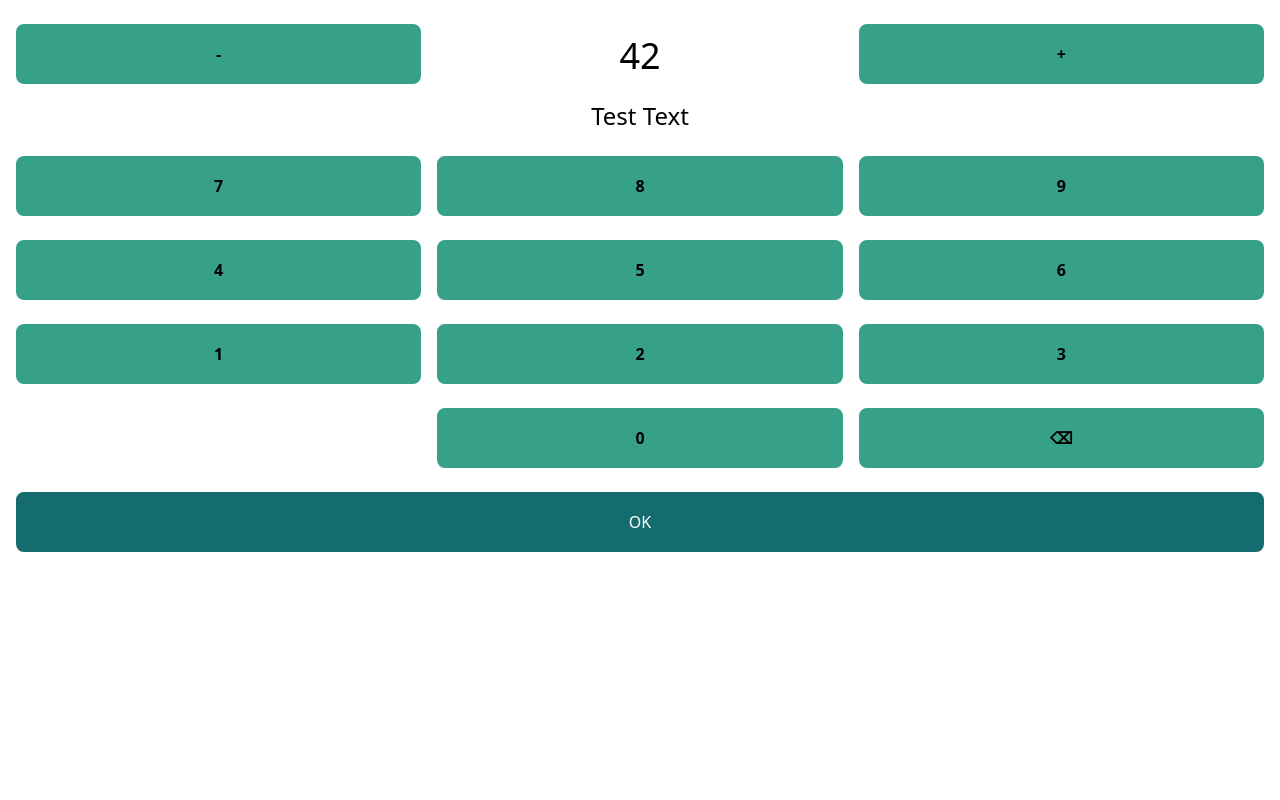
Test: NumPad › decreases value when - button is clicked
The image size is (1280, 800).
Click the button "-": [219, 54] box [16,24,421,84]
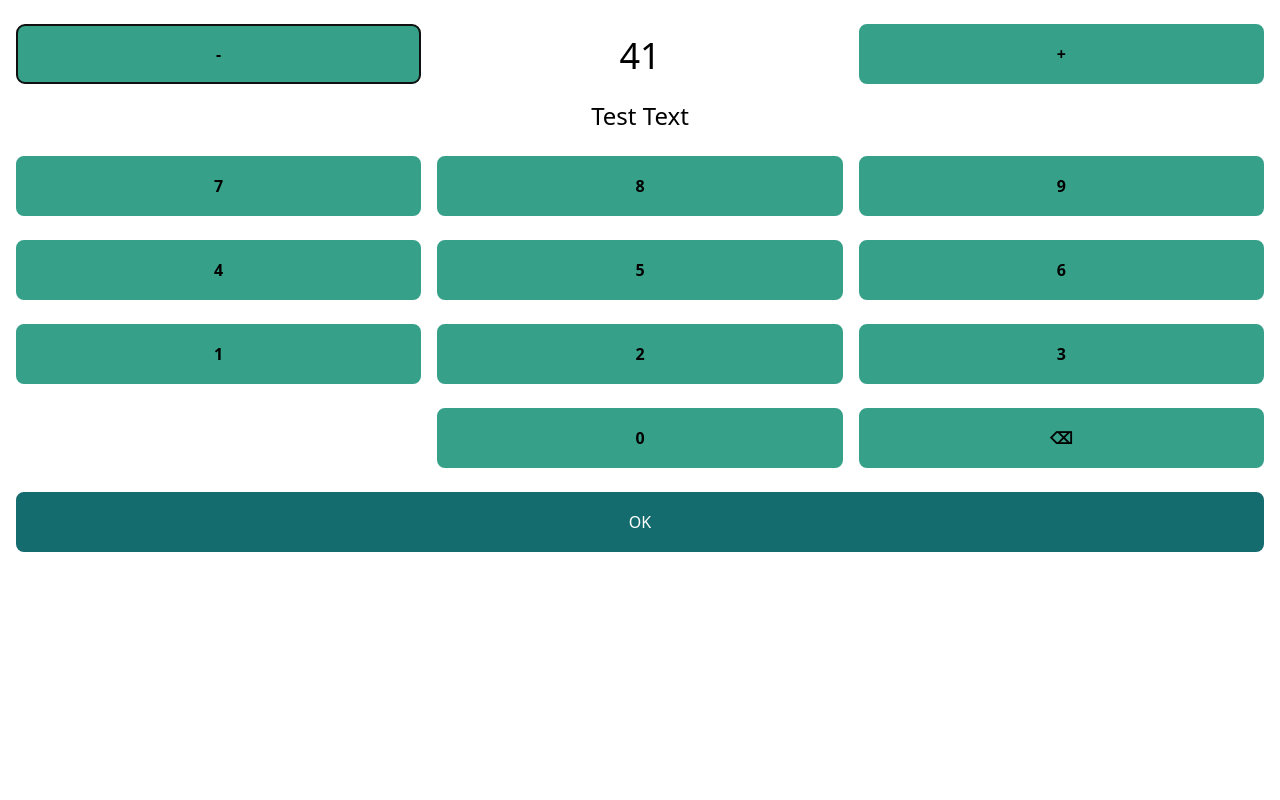
Check: the text "41" is shown, box [619,31,661,80]
